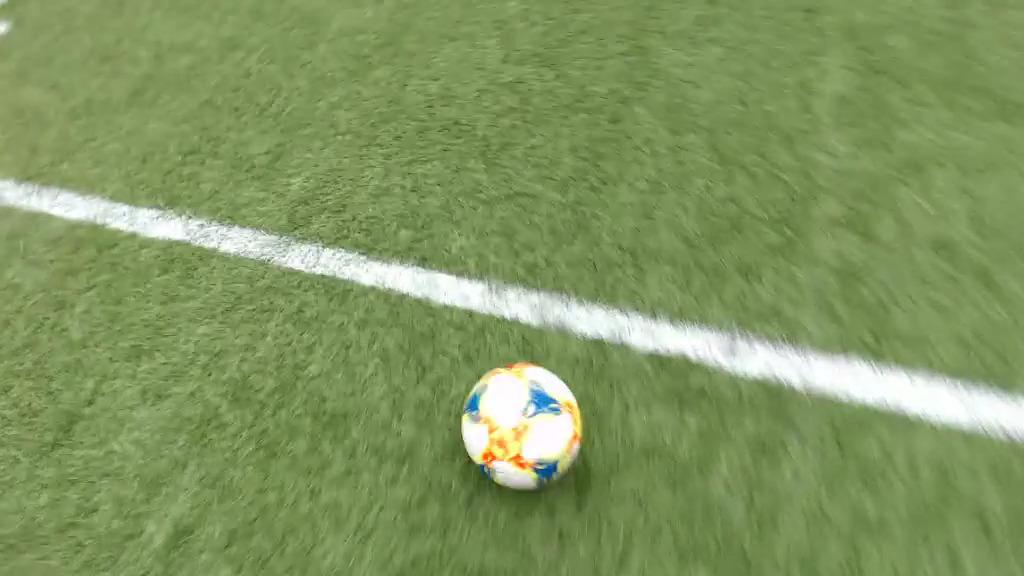ball: (464, 362, 581, 488)
